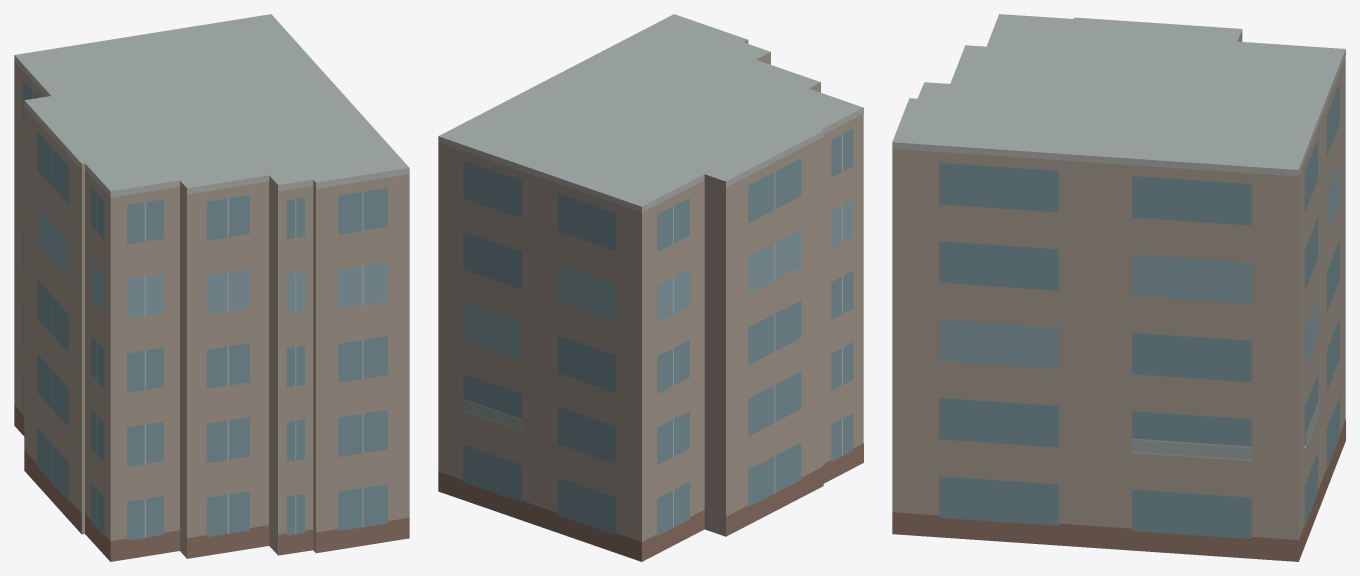
File: survey-upis-32671547.glb
3 renders of one model, left to right at view 1: azimuth 30°, elevation 25°; view 2: azimuth 150°, elevation 25°; view 3: azimuth 270°, elevation 25°, orthographic. The views are drawn at different scales.
Parts seen in each view (by area): view 1: survey-upis-32671547.tmp; view 2: survey-upis-32671547.tmp; view 3: survey-upis-32671547.tmp.
Part boxes in pixels (x1,y1,x2,y2): survey-upis-32671547.tmp: (14,14,409,561); survey-upis-32671547.tmp: (438,14,863,561); survey-upis-32671547.tmp: (892,14,1345,561).
Size of the model in its own units: 12.48 by 14.6 by 15.33.
